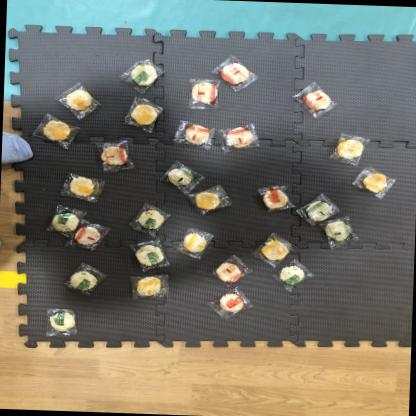green_setoshio: (120, 58, 164, 93), (128, 202, 176, 234), (160, 160, 205, 194), (298, 193, 344, 226), (318, 214, 361, 246), (65, 264, 105, 297), (129, 240, 171, 271), (41, 304, 81, 336), (276, 262, 314, 294), (47, 206, 79, 238)
red_setoshio: (209, 251, 256, 286), (206, 286, 254, 320), (218, 56, 262, 90), (184, 76, 226, 110), (96, 140, 138, 174), (296, 83, 338, 114), (176, 120, 214, 154), (257, 180, 294, 214), (221, 121, 259, 150), (72, 221, 110, 250)
yellow_setoshio: (56, 170, 102, 205), (350, 166, 396, 200), (57, 82, 100, 118), (38, 115, 82, 148), (252, 233, 296, 264), (331, 134, 372, 166), (122, 98, 164, 129), (178, 227, 214, 258), (132, 274, 170, 303), (189, 187, 229, 212)
